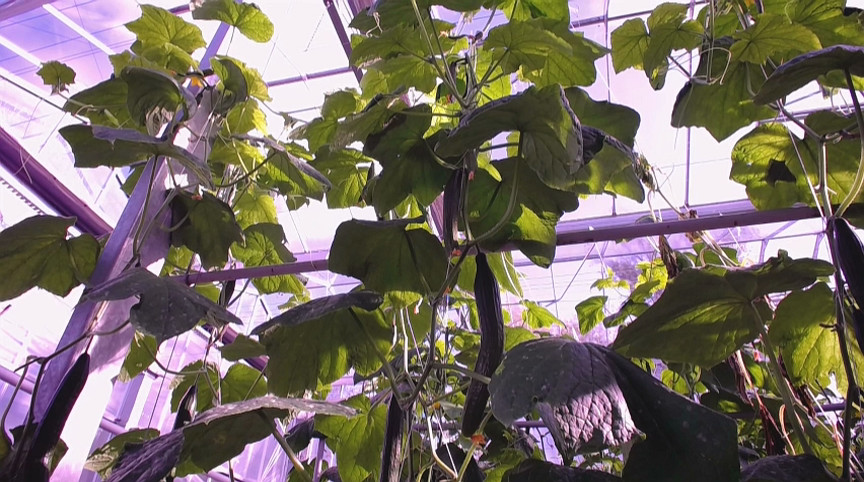cucumber: (26, 354, 92, 482), (462, 251, 503, 439), (833, 218, 864, 304), (383, 393, 408, 482)
